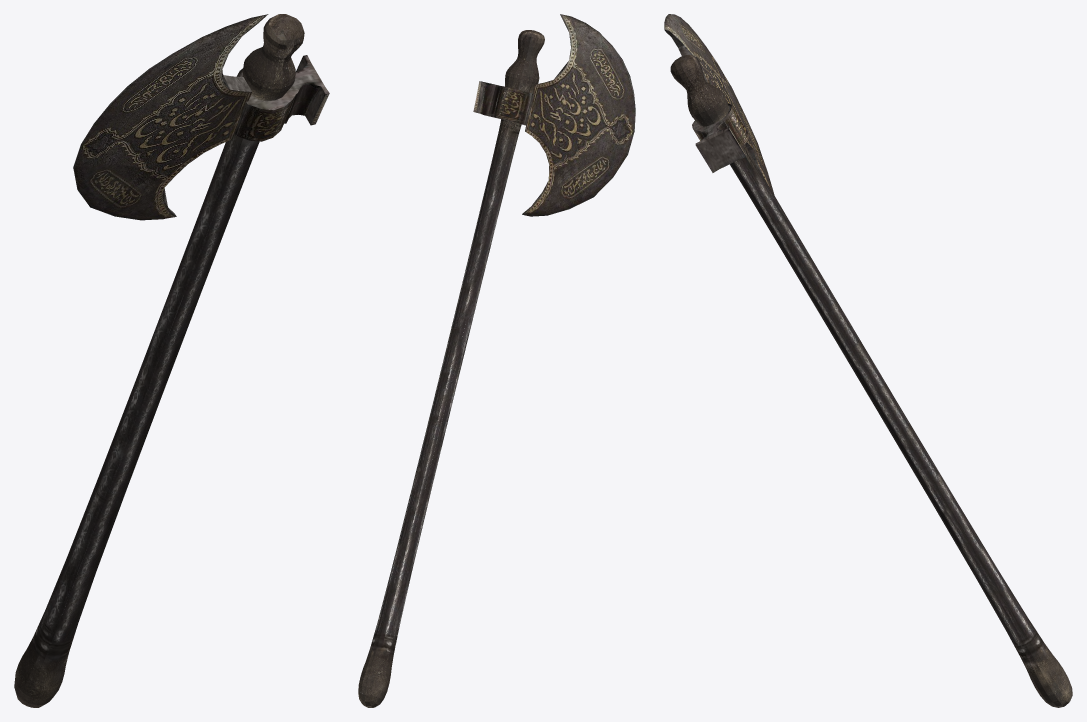
File: AXE.fbx
3 views of the same model, side by side, from view 1: azimuth 30°, elevation 25°; view 2: azimuth 150°, elevation 25°; view 3: azimuth 270°, elevation 25° (orthographic). The views are drawn at different scales.
Visible parts, largest first — view 1: cc, cv, dx; view 2: cc, cv, dx; view 3: cc, cv, dx.
Boxes of the visible parts, <box> form: cc: <box>14,14,304,707</box>; cv: <box>73,14,268,220</box>; dx: <box>234,55,329,141</box>; cc: <box>358,30,544,707</box>; cv: <box>522,14,635,216</box>; dx: <box>473,81,534,125</box>; cc: <box>670,55,1072,707</box>; cv: <box>664,14,774,194</box>; dx: <box>692,103,749,172</box>.
Size of the model in its own units: 1178 by 4297 by 2388.
